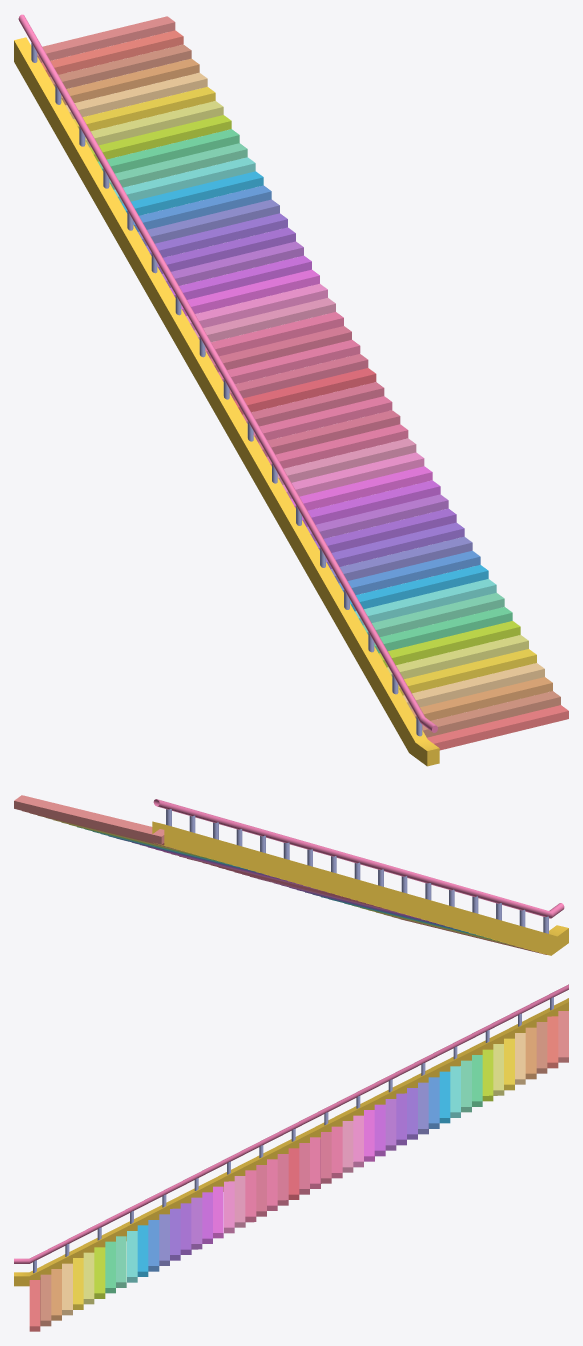
The model's file is Stairs_Start4.fbx.
3 renders of one model, top to bottom at view 1: azimuth 30°, elevation 25°; view 2: azimuth 150°, elevation 25°; view 3: azimuth 270°, elevation 25°, orthographic. The views are drawn at different scales.
Visible parts, largest first — view 1: Stairs_Start; view 2: Stairs_Start; view 3: Stairs_Start.
Part boxes in pixels (left/top/right/bottom): Stairs_Start: left=14, top=14, right=568, bottom=766; Stairs_Start: left=14, top=795, right=568, bottom=955; Stairs_Start: left=14, top=984, right=568, bottom=1331.
Size of the model in its own units: 2.46 by 6.86 by 11.48.
